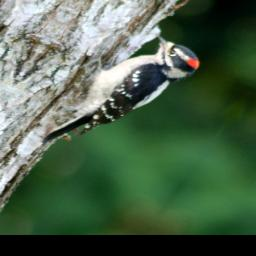Woodpecker: (31, 18, 214, 176)
